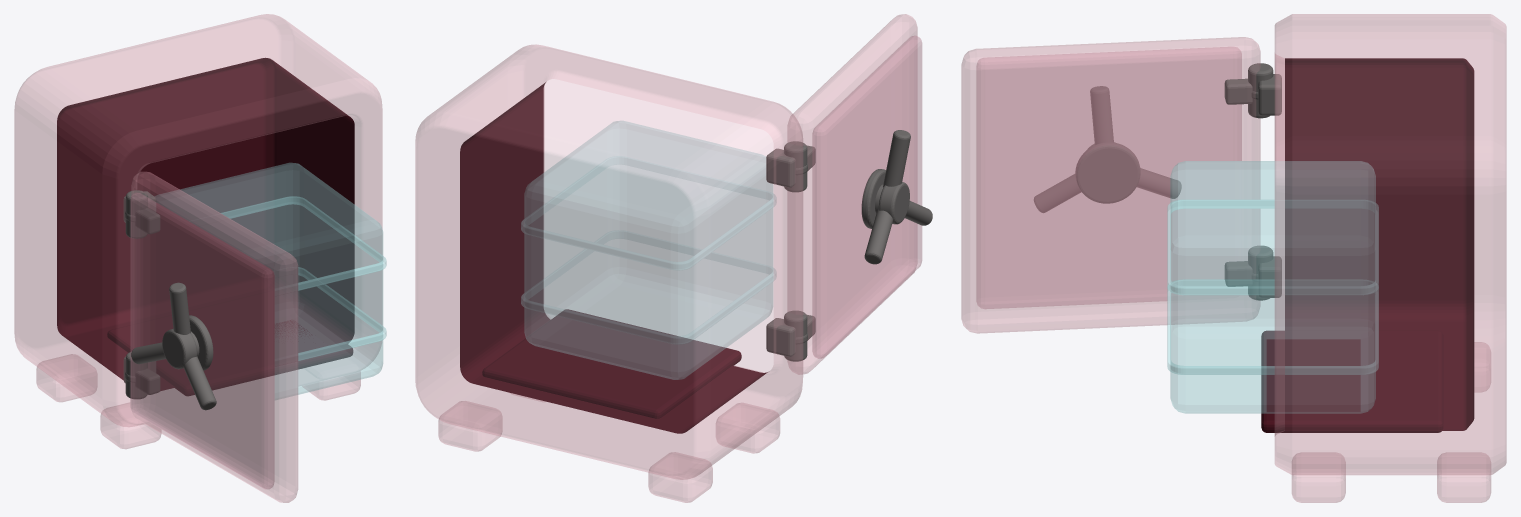
Rendered from secretsmanager.glb.
3 renders of one model, left to right at view 1: azimuth 30°, elevation 25°; view 2: azimuth 150°, elevation 25°; view 3: azimuth 270°, elevation 25°, orthographic. The views are drawn at different scales.
Visible parts, largest first — view 1: Ruby vault housing, Open ruby door, Raised door panel, Secret cartridge, Interior slide, Ruby foot.001, Upper cartridge band, Ruby foot, Lower cartridge band, Wheel hub, Ruby foot.002, Wheel spoke 3 (+7 smaller); view 2: Ruby vault housing, Secret cartridge, Open ruby door, Raised door panel, Interior slide, Ruby foot.001, Ruby foot.003, Ruby foot, Upper cartridge band, Lower cartridge band, Wheel spoke 1, Fixed hinge leaf.001 (+6 smaller); view 3: Ruby vault housing, Open ruby door, Raised door panel, Secret cartridge, Interior slide, Upper cartridge band, Wheel base, Lower cartridge band, Ruby foot.002, Ruby foot.003, Wheel spoke 1, Fixed hinge leaf.001 (+8 smaller).
Part boxes in pixels (x1=…): Ruby vault housing: x1=14, y1=14, x2=382, y2=426; Open ruby door: x1=131, y1=172, x2=297, y2=502; Raised door panel: x1=130, y1=193, x2=274, y2=488; Secret cartridge: x1=155, y1=163, x2=382, y2=399; Interior slide: x1=107, y1=291, x2=353, y2=395; Ruby foot.001: x1=36, y1=354, x2=97, y2=401; Upper cartridge band: x1=221, y1=196, x2=386, y2=295; Ruby foot: x1=100, y1=402, x2=161, y2=448; Lower cartridge band: x1=275, y1=267, x2=386, y2=366; Wheel hub: x1=162, y1=329, x2=196, y2=369; Ruby foot.002: x1=302, y1=371, x2=360, y2=400; Wheel spoke 3: x1=183, y1=356, x2=216, y2=410; Ruby vault housing: x1=415, y1=44, x2=802, y2=479; Secret cartridge: x1=524, y1=121, x2=772, y2=379; Open ruby door: x1=787, y1=14, x2=917, y2=374; Raised door panel: x1=812, y1=36, x2=921, y2=358; Interior slide: x1=482, y1=309, x2=741, y2=418; Ruby foot.001: x1=648, y1=452, x2=712, y2=502; Ruby foot.003: x1=438, y1=401, x2=502, y2=451; Ruby foot: x1=716, y1=403, x2=779, y2=453; Upper cartridge band: x1=521, y1=165, x2=776, y2=270; Lower cartridge band: x1=521, y1=238, x2=776, y2=344; Wheel spoke 1: x1=883, y1=130, x2=910, y2=187; Fixed hinge leaf.001: x1=766, y1=148, x2=795, y2=187; Ruby vault housing: x1=1274, y1=14, x2=1506, y2=474; Open ruby door: x1=961, y1=37, x2=1260, y2=333; Raised door panel: x1=976, y1=47, x2=1241, y2=308; Secret cartridge: x1=1170, y1=161, x2=1375, y2=413; Interior slide: x1=1261, y1=330, x2=1443, y2=432; Upper cartridge band: x1=1167, y1=200, x2=1378, y2=294; Wheel base: x1=1075, y1=142, x2=1140, y2=203; Lower cartridge band: x1=1167, y1=279, x2=1378, y2=374; Ruby foot.002: x1=1292, y1=452, x2=1345, y2=502; Ruby foot.003: x1=1437, y1=452, x2=1490, y2=502; Wheel spoke 1: x1=1090, y1=86, x2=1113, y2=144; Fixed hinge leaf.001: x1=1258, y1=74, x2=1281, y2=115.
Size of the model in its own units: 2.7 by 2.72 by 3.71.
